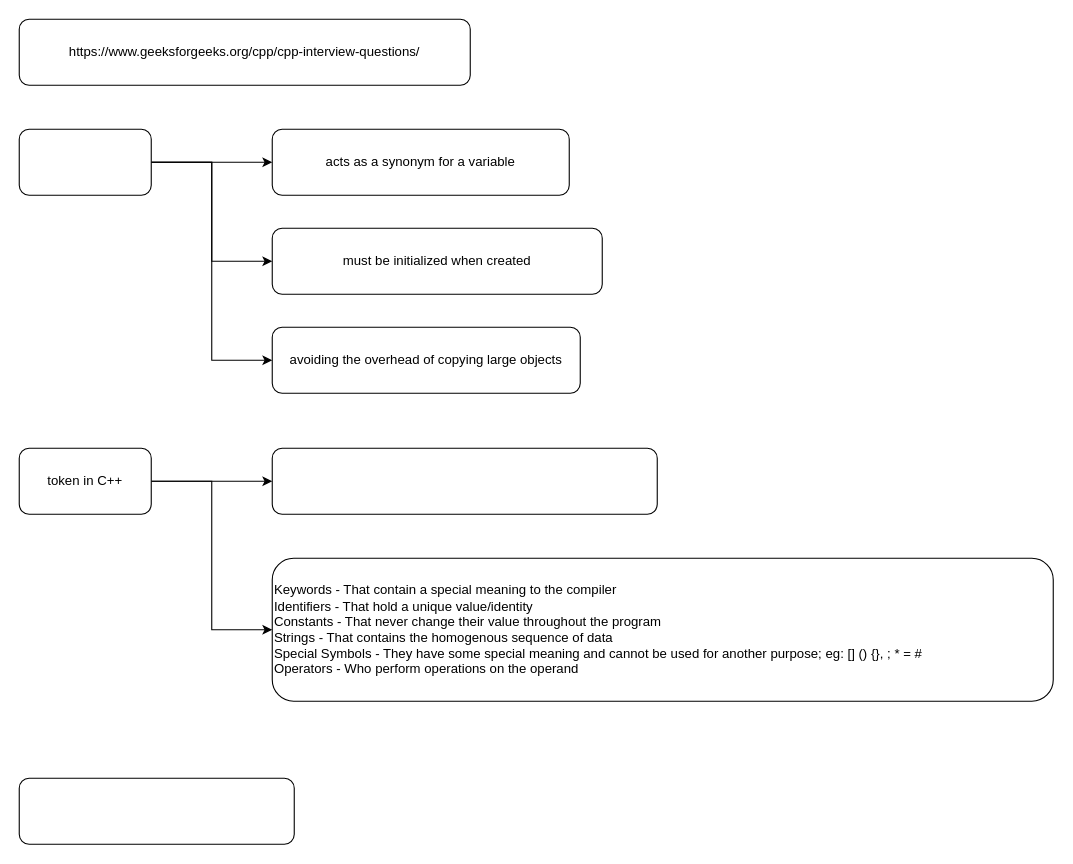
Image size: 1073x864. Some labels were removed from this diagram. The centre of each missing label's shape, as x and y in pixels:
difference between struct and class: pixel 156 810
references: pixel 84 161
smallest element that is understood by a compiler: pixel 464 480
